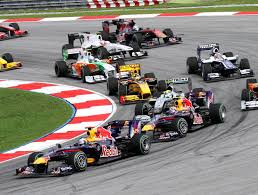FormulaOneCar: (14, 118, 152, 179), (135, 87, 230, 143), (185, 35, 256, 84), (96, 14, 186, 50), (102, 61, 172, 104), (60, 30, 150, 63), (51, 44, 120, 86)
